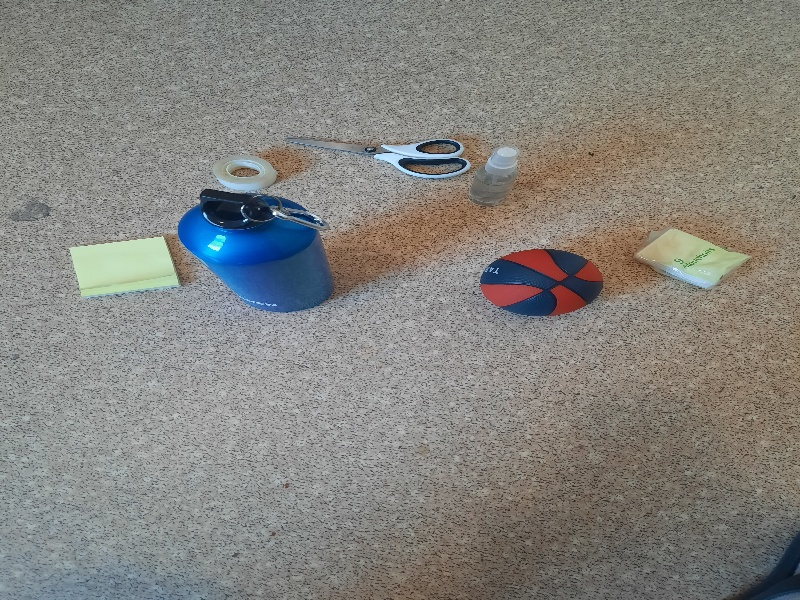ballon: (476, 247, 608, 318)
ciseaux: (286, 130, 473, 178)
gel: (468, 147, 520, 206)
gourde: (178, 188, 340, 310)
mouchoirs: (635, 225, 755, 294)
post-it: (68, 235, 185, 295)
scotch: (211, 151, 279, 189)
